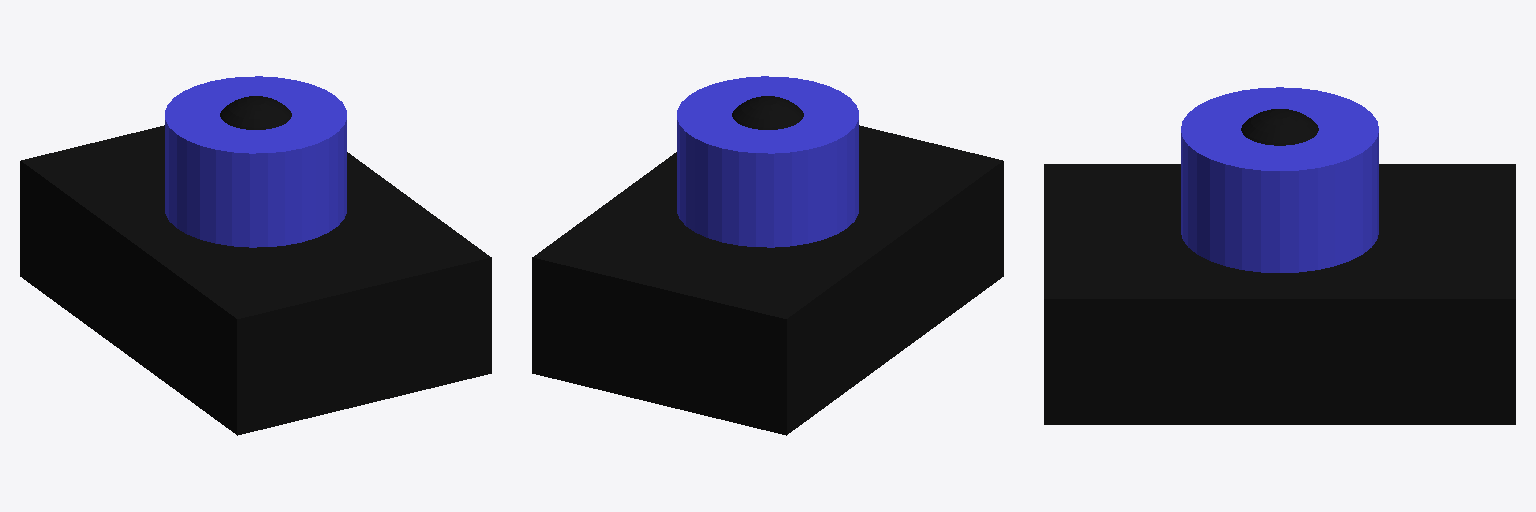
The robot description file, URDF, robot "evolved_robot":
<?xml version="1.0"?>
<robot name="evolved_robot">
  <material name="metal">
    <color rgba="0.7 0.7 0.7 1.0"/>
  </material>
  <material name="plastic">
    <color rgba="0.3 0.3 0.9 1.0"/>
  </material>
  <material name="rubber">
    <color rgba="0.1 0.1 0.1 1.0"/>
  </material>
  <material name="red">
    <color rgba="1.0 0.0 0.0 1.0"/>
  </material>
  <material name="wheel_material">
    <color rgba="0.2 0.2 0.2 1.0"/>
  </material>
  <link name="base_link">
    <visual>
      <geometry><box size="0.20518591492155902 0.30361920863771596 0.08967099717663922"/></geometry>
      <material name="rubber"/>
    </visual>
    <collision>
      <geometry><box size="0.20518591492155902 0.30361920863771596 0.08967099717663922"/></geometry>
    </collision>
    <inertial>
      <mass value="5.0"/>
      <inertia ixx="0.0835212596570381" ixy="0" ixz="0" 
               iyy="0.041785122847375074" iyz="0" 
               izz="0.11190490294665845"/>
    </inertial>
  </link>
  <link name="link1">
    <visual>
      <geometry><cylinder radius="0.06402037993444454" length="0.145126787739854"/></geometry>
      <material name="plastic"/>
    </visual>
    <collision>
      <geometry><cylinder radius="0.06402037993444454" length="0.145126787739854"/></geometry>
    </collision>
    <inertial>
      <mass value="0.5"/>
      <inertia ixx="0.00277980097171171" ixy="0" ixz="0" 
               iyy="0.00277980097171171" iyz="0" 
               izz="0.0020493045234753144"/>
    </inertial>
  </link>
  <joint name="joint1" type="prismatic">
    <parent link="base_link"/>
    <child link="link1"/>
    <origin xyz="0 0 0.04483549858831961" rpy="0 0 0"/>
    <axis xyz="0.9059971689452228 -0.3592321490203908 0.22387807613393815"/>
    <dynamics damping="0.733667224739957" friction="0.1"/>
    <limit lower="-0.9555381746162789" upper="0.8457688925408955" effort="100" velocity="100"/>
  </joint>
  <link name="link2">
    <visual>
      <geometry>
        <cylinder radius="0.06293185838100782" length="0.05123323211179187"/>
      </geometry>
      <material name="wheel_material"/>
    </visual>
    <collision>
      <geometry>
        <cylinder radius="0.06293185838100782" length="0.05123323211179187"/>
      </geometry>
    </collision>
    <inertial>
      <mass value="1.0"/>
      <inertia ixx="0.0012088417058735343" ixy="0" ixz="0" 
               iyy="0.0012088417058735343" iyz="0" 
               izz="0.0019802093996436117"/>
    </inertial>
  </link>
  <joint name="joint2" type="continuous">
    <parent link="base_link"/>
    <child link="link2"/>
    <origin xyz="0 0 0" rpy="1.5708 0 0"/>
    <axis xyz="0 1 0"/>
    <dynamics damping="0.696316638650114" friction="0.1"/>
  </joint>
  <link name="link3">
    <visual>
      <geometry><sphere radius="0.033866837791019656"/></geometry>
      <material name="rubber"/>
    </visual>
    <collision>
      <geometry><sphere radius="0.033866837791019656"/></geometry>
    </collision>
    <inertial>
      <mass value="0.5"/>
      <inertia ixx="0.00045878508078529487" ixy="0" ixz="0" 
               iyy="0.00045878508078529487" iyz="0" 
               izz="0.00045878508078529487"/>
    </inertial>
  </link>
  <joint name="joint3" type="fixed">
    <parent link="base_link"/>
    <child link="link3"/>
    <origin xyz="0 0 0.0948354985883196" rpy="0 0 0"/>
    <axis xyz="0.7796961016368024 0.6261168551875145 -0.007188375509821663"/>
    <dynamics damping="0.5887855533223098" friction="0.1"/>
  </joint>
</robot>

--- Render facts (derived) ---
Views: 3 orthographic renders of the robot side by side, from view 1: azimuth 30°, elevation 25°; view 2: azimuth 150°, elevation 25°; view 3: azimuth 270°, elevation 25°.
Robot: evolved_robot — 4 links, 3 joints (1 continuous, 1 prismatic, 1 fixed); root link base_link; default pose: every joint at zero.
Visible links, largest first — view 1: base_link, link1, link3; view 2: base_link, link1, link3; view 3: base_link, link1, link3.
Boxes of the visible links, box(x1,y1,x2,y2) form: base_link: box(20, 125, 491, 435); link1: box(165, 76, 346, 247); link3: box(220, 96, 291, 129); base_link: box(532, 125, 1003, 435); link1: box(677, 76, 858, 247); link3: box(732, 96, 803, 129); base_link: box(1044, 164, 1515, 424); link1: box(1181, 87, 1378, 272); link3: box(1241, 109, 1318, 145).
Size in the robot's own frame: 0.2052 by 0.3036 by 0.1916 metres.
Geometry: primitives only (box / cylinder / sphere), no mesh files.